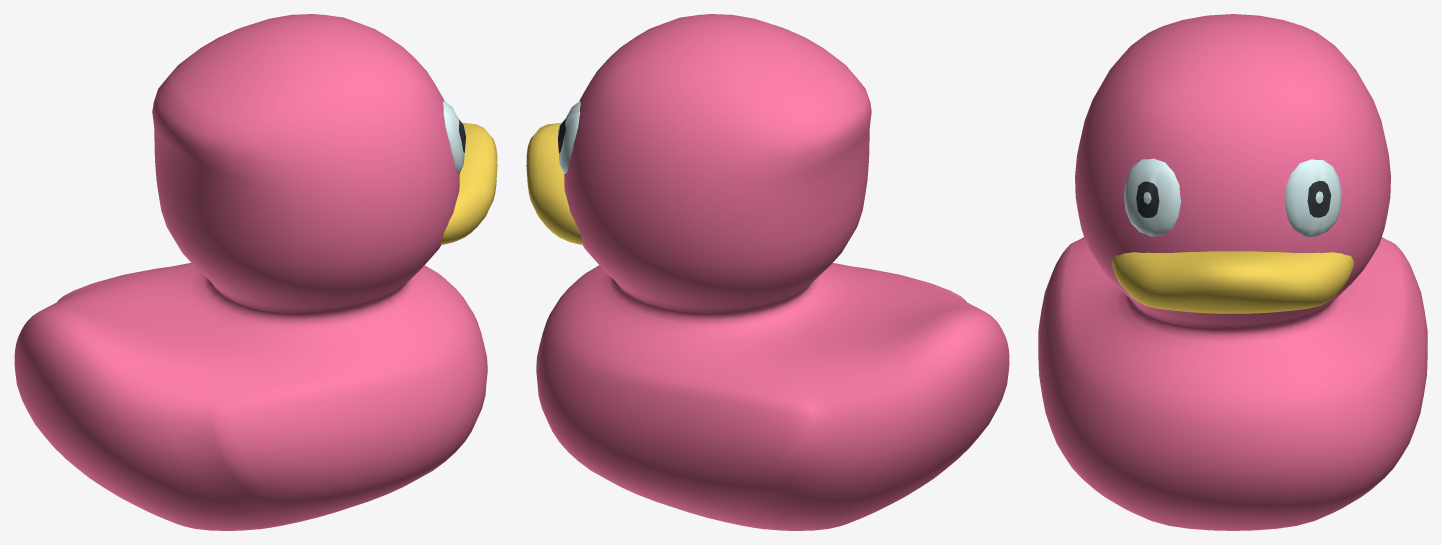
Rendered from Rubber Ducky Pink.fbx.
3 renders of one model, left to right at view 1: azimuth 30°, elevation 25°; view 2: azimuth 150°, elevation 25°; view 3: azimuth 270°, elevation 25°, orthographic. The views are drawn at different scales.
Visible parts, largest first — view 1: Rubber_Duck; view 2: Rubber_Duck; view 3: Rubber_Duck.
Boxes of the visible parts, left/top/right/bottom form: Rubber_Duck: left=14, top=14, right=497, bottom=530; Rubber_Duck: left=526, top=14, right=1009, bottom=530; Rubber_Duck: left=1038, top=14, right=1427, bottom=530.
Size of the model in its own units: 8.53 by 8.27 by 6.1.
1 material, 1 textured.
